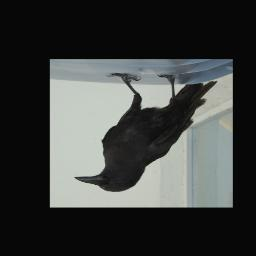Crow: (72, 71, 217, 192)
